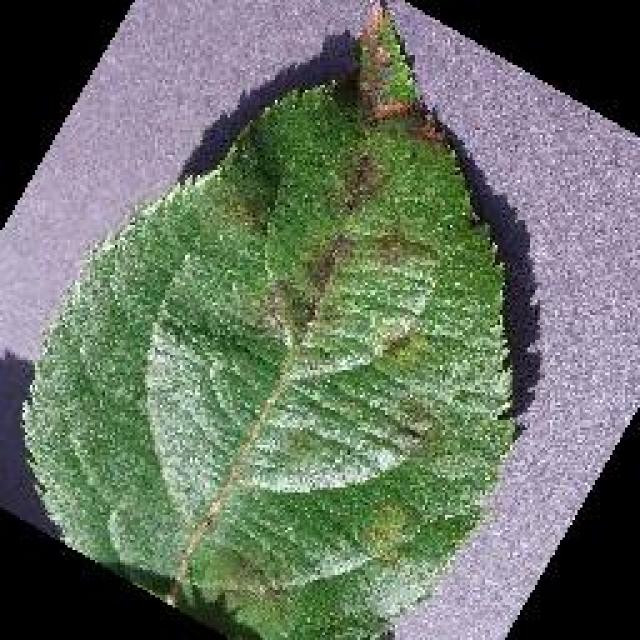apple scab disease: (18, 0, 522, 638)
